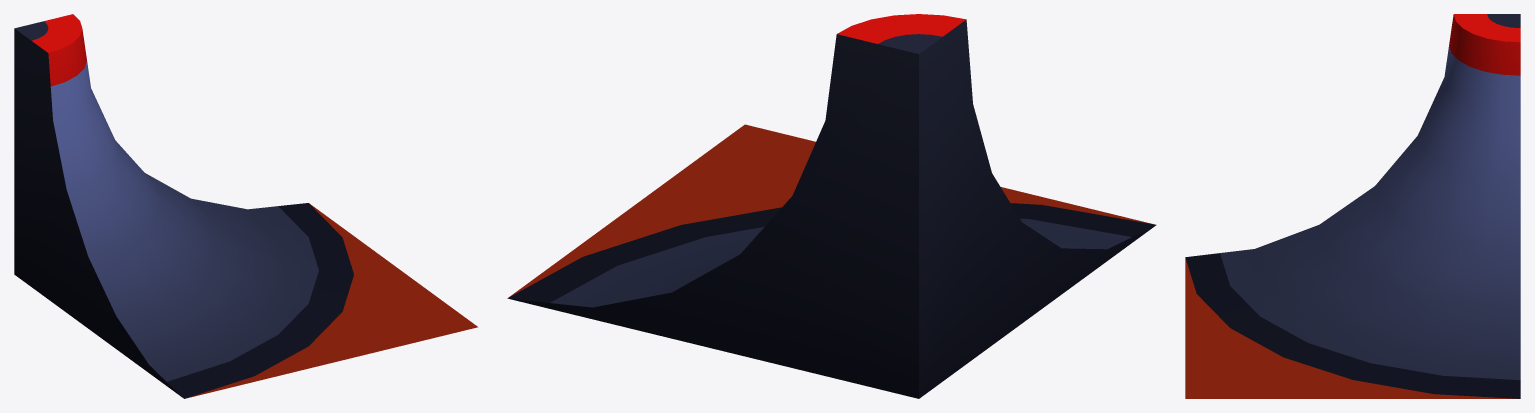
The model's file is bowl-corner-outer.fbx.
The picture shows the model from 3 angles, left to right: view 1: azimuth 30°, elevation 25°; view 2: azimuth 150°, elevation 25°; view 3: azimuth 270°, elevation 25°; orthographic projection. The views are drawn at different scales.
Parts seen in each view (by area): view 1: bowl-corner-outer; view 2: bowl-corner-outer; view 3: bowl-corner-outer.
Boxes of the visible parts, x1,y1,x2,y2 form: bowl-corner-outer: (14,14,477,398); bowl-corner-outer: (507,14,1156,398); bowl-corner-outer: (1185,14,1520,398).
Size of the model in its own units: 10 by 8 by 10.
